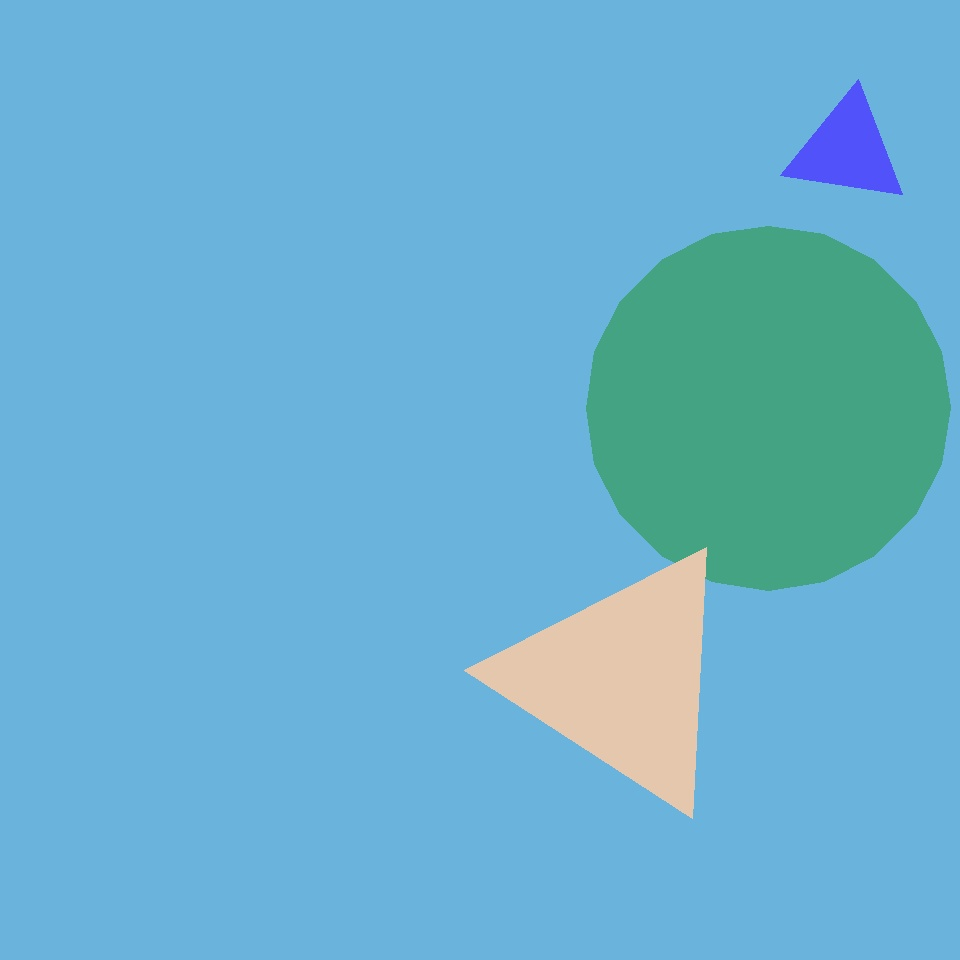circle: (500, 544, 742, 814), (722, 241, 852, 373), (786, 92, 908, 208)
square: (613, 132, 903, 421)
triangle: (345, 571, 719, 946), (586, 226, 950, 590), (95, 297, 393, 594), (650, 627, 944, 921)
